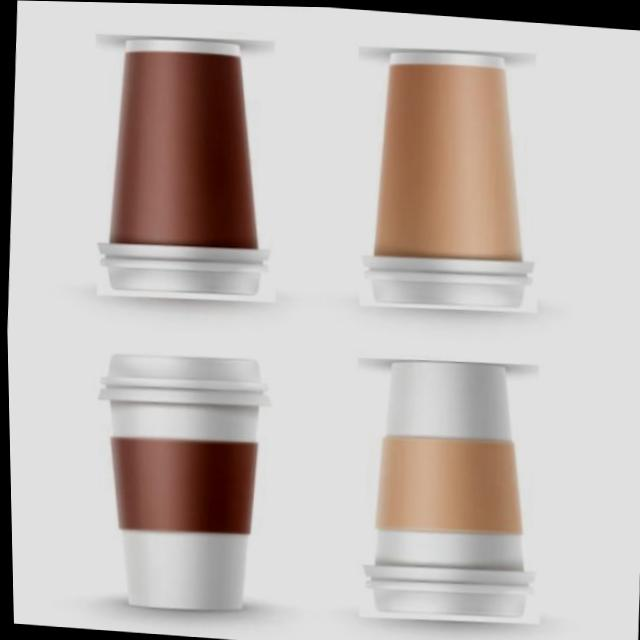Cup: (79, 342, 285, 625), (80, 28, 287, 309), (341, 351, 549, 630), (343, 39, 548, 318)
